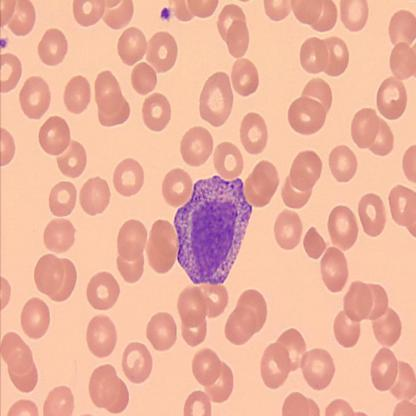Myelocyte: (174, 173, 253, 285)
